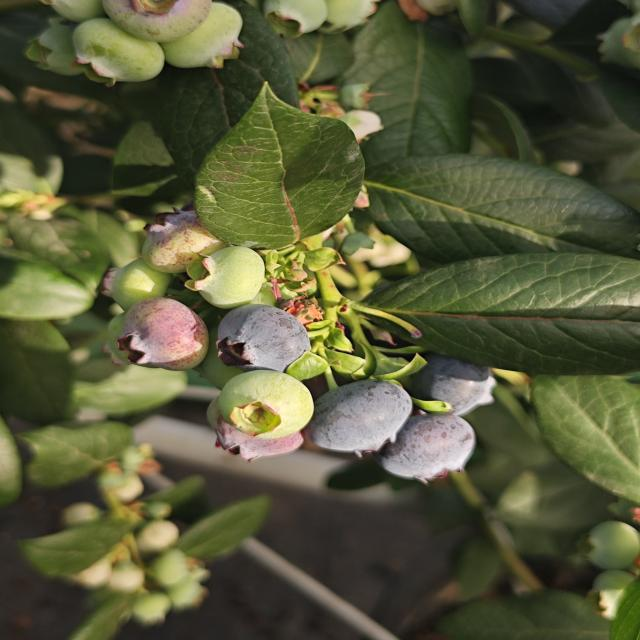ripe: (306, 377, 415, 456), (372, 411, 478, 486), (400, 345, 503, 418), (212, 302, 314, 374)
